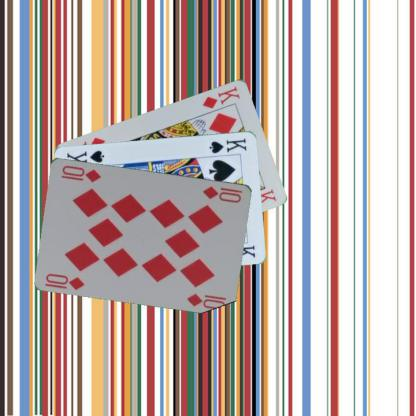10d: (200, 183, 244, 204), (43, 271, 86, 292)
Kd: (200, 83, 241, 110)
Ks: (207, 135, 248, 154)
